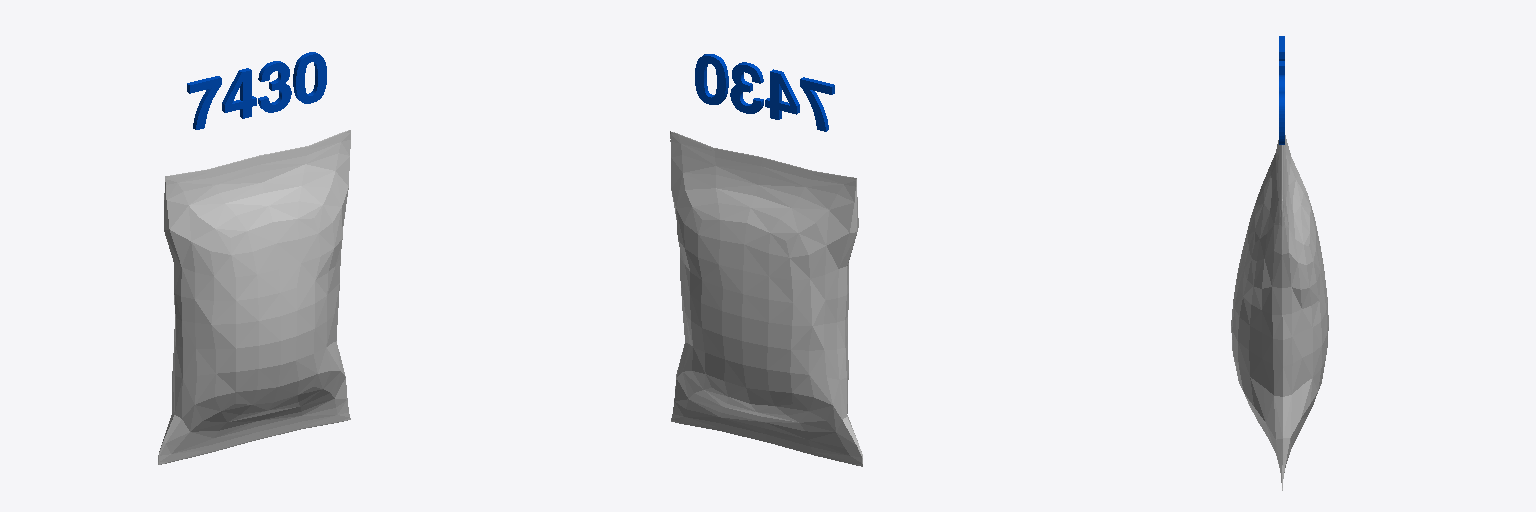
File: KACANG.obj
3 views of the same model, side by side, from view 1: azimuth 30°, elevation 25°; view 2: azimuth 150°, elevation 25°; view 3: azimuth 270°, elevation 25° (orthographic).
Parts seen in each view (by area): view 1: BOLSA_CACAHUATE_FRENTE, 7430; view 2: BOLSA_CACAHUATE_VUELTA, 7430; view 3: BOLSA_CACAHUATE_FRENTE, BOLSA_CACAHUATE_VUELTA, 7430.
Part boxes in pixels (bbox=[...]): BOLSA_CACAHUATE_FRENTE: bbox=[158, 130, 350, 464]; 7430: bbox=[187, 52, 326, 129]; BOLSA_CACAHUATE_VUELTA: bbox=[670, 131, 862, 466]; 7430: bbox=[695, 54, 834, 131]; BOLSA_CACAHUATE_FRENTE: bbox=[1231, 140, 1282, 482]; BOLSA_CACAHUATE_VUELTA: bbox=[1282, 135, 1328, 490]; 7430: bbox=[1279, 36, 1284, 144].
Bounding box in the file's own units: 1878 × 3500 × 824.